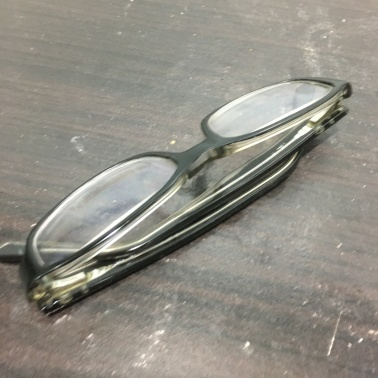glasses: (28, 45, 338, 302)
